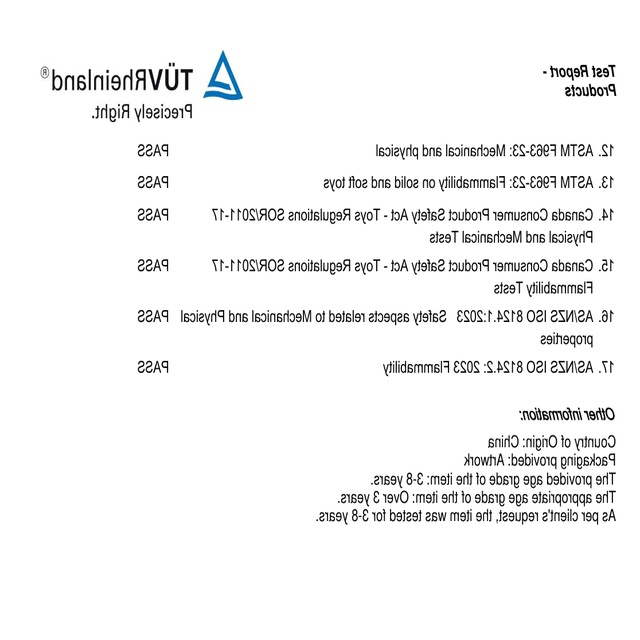tuv_rheinland: (36, 47, 248, 104)
